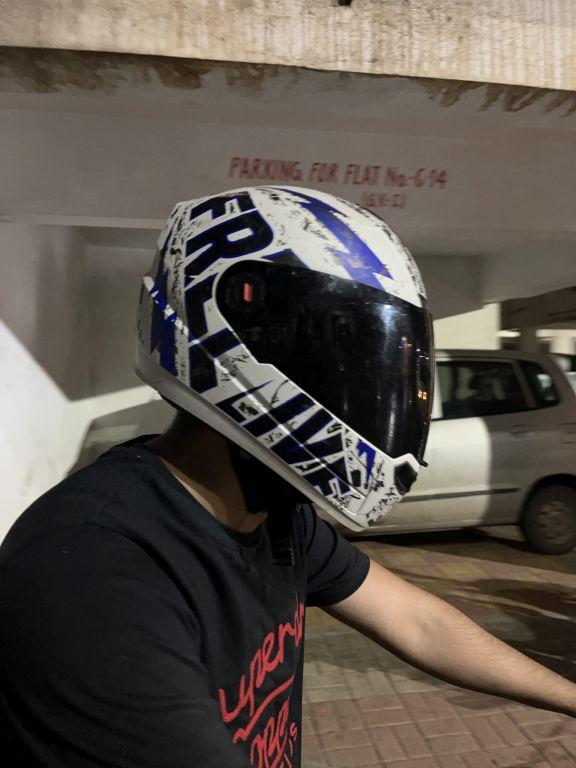helmet: (137, 169, 445, 542)
